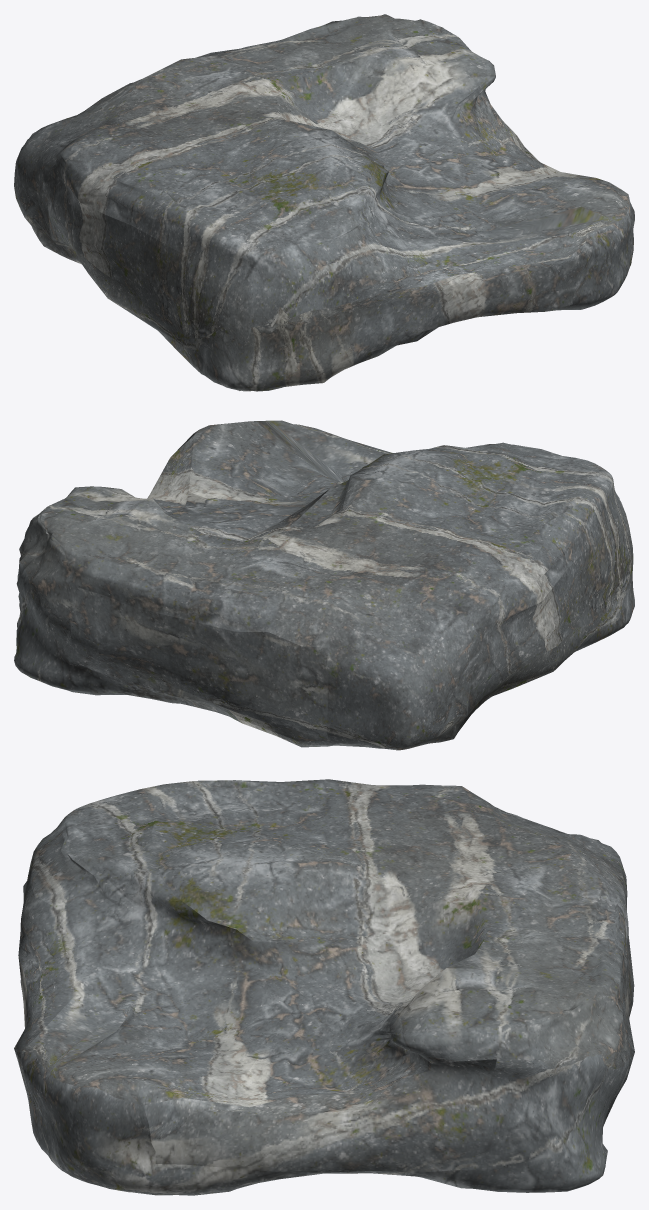
Rendered from SM_StoneBrick_A_04.fbx.
3 views of the same model, one above another, from view 1: azimuth 30°, elevation 25°; view 2: azimuth 150°, elevation 25°; view 3: azimuth 270°, elevation 25° (orthographic). The views are drawn at different scales.
Parts seen in each view (by area): view 1: SM_StoneBrick_A_04_LOD0; view 2: SM_StoneBrick_A_04_LOD0; view 3: SM_StoneBrick_A_04_LOD0.
Boxes of the visible parts, x1,y1,x2,y2 form: SM_StoneBrick_A_04_LOD0: (14, 14, 634, 391); SM_StoneBrick_A_04_LOD0: (14, 420, 634, 750); SM_StoneBrick_A_04_LOD0: (14, 779, 634, 1195).
Size of the model in its own units: 110 by 106 by 39.81.
